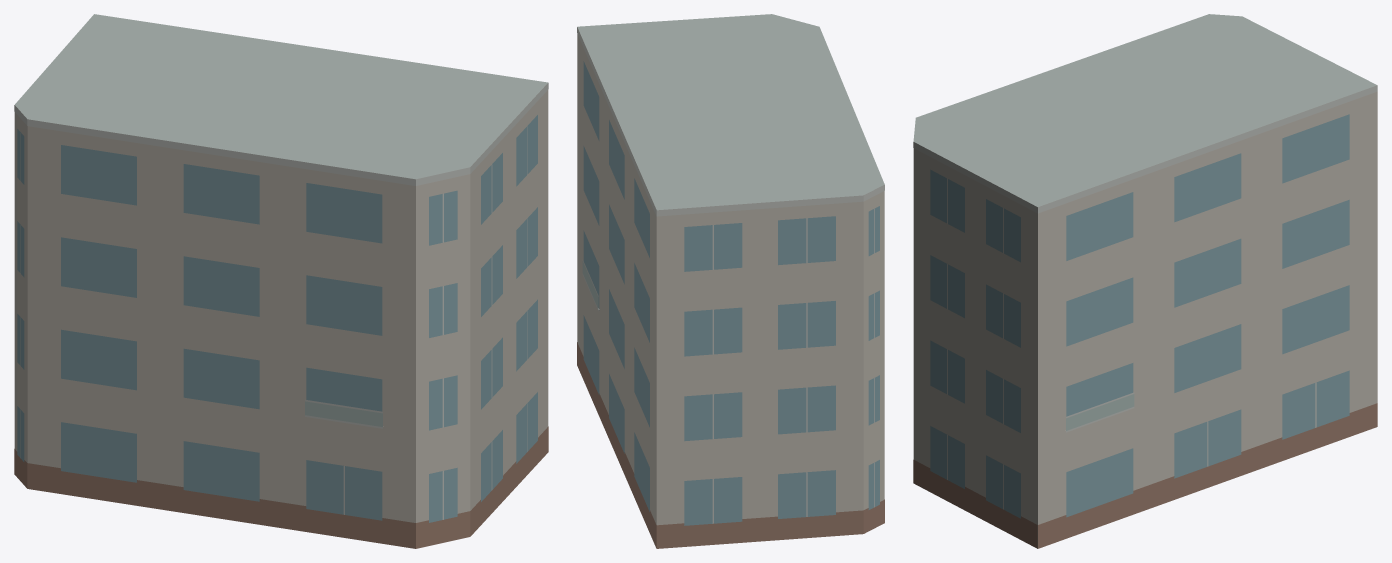
File: survey-upis-32724228.glb
The picture shows the model from 3 angles, left to right: view 1: azimuth 30°, elevation 25°; view 2: azimuth 150°, elevation 25°; view 3: azimuth 270°, elevation 25°; orthographic projection. The views are drawn at different scales.
Parts seen in each view (by area): view 1: survey-upis-32724228.tmp; view 2: survey-upis-32724228.tmp; view 3: survey-upis-32724228.tmp.
Part boxes in pixels (<box>): survey-upis-32724228.tmp: <box>14,14,548,548</box>; survey-upis-32724228.tmp: <box>577,14,884,548</box>; survey-upis-32724228.tmp: <box>913,14,1377,548</box>.
Bounding box in the file's own units: 16.02 × 13.2 × 16.26.
